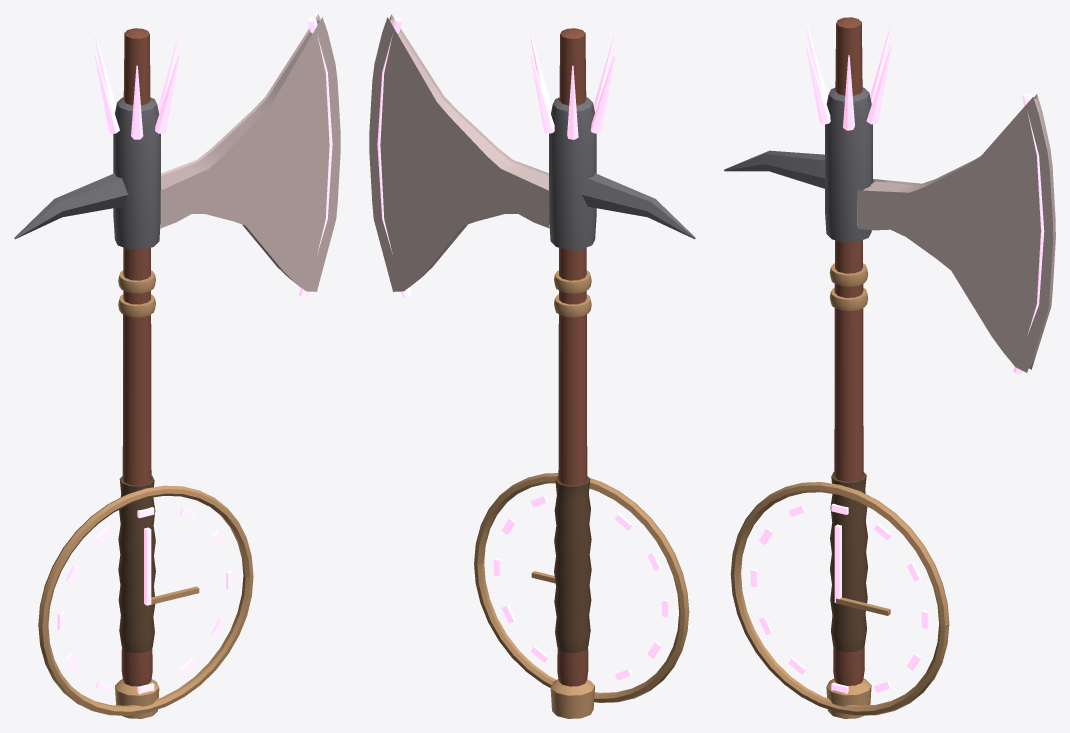
Rendered from fa_everember.glb.
The picture shows the model from 3 angles, left to right: view 1: azimuth 30°, elevation 25°; view 2: azimuth 150°, elevation 25°; view 3: azimuth 330°, elevation 25°; orthographic projection.
Parts seen in each view (by area): view 1: fa_everember; view 2: fa_everember; view 3: fa_everember.
Part boxes in pixels (left/top/right/bottom): fa_everember: left=14, top=14, right=340, bottom=718; fa_everember: left=369, top=14, right=695, bottom=718; fa_everember: left=724, top=14, right=1055, bottom=718.
Bounding box in the file's own units: 0.4273 × 0.865 × 0.0968.
